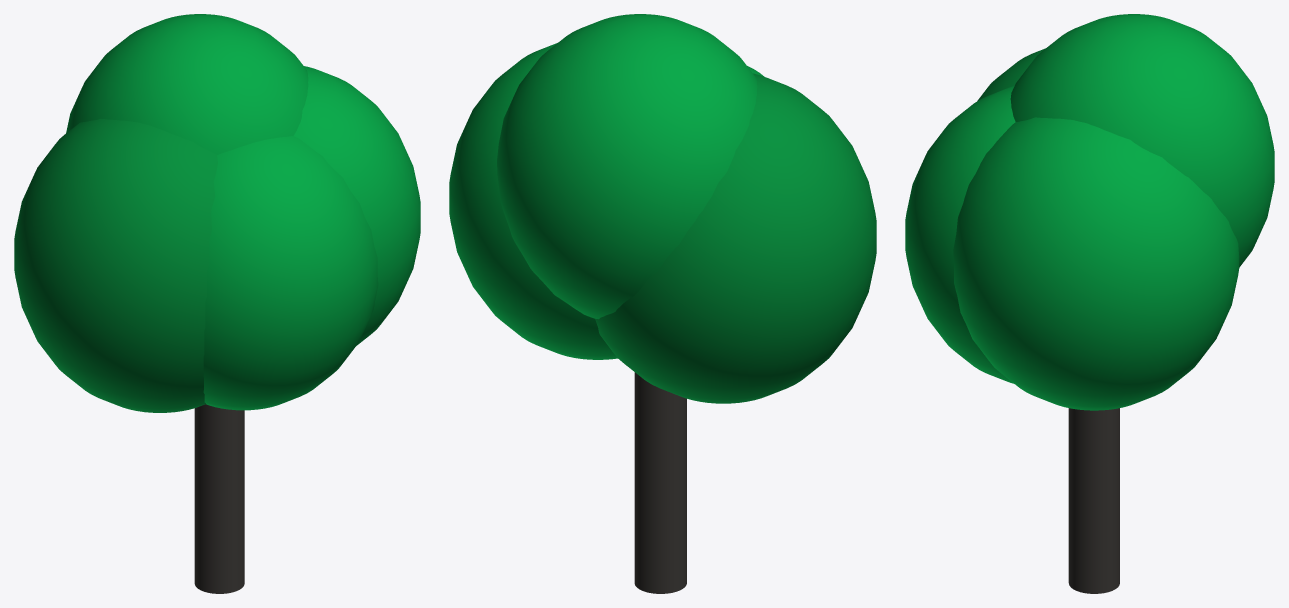
File: tree_broadleaf.glb
3 renders of one model, left to right at view 1: azimuth 30°, elevation 25°; view 2: azimuth 150°, elevation 25°; view 3: azimuth 270°, elevation 25°, orthographic. The views are drawn at different scales.
Visible parts, largest first — view 1: connected-canopy_leaf, connected-canopy_green, continuous-trunk_ink; view 2: connected-canopy_leaf, connected-canopy_green, continuous-trunk_ink; view 3: connected-canopy_leaf, continuous-trunk_ink, connected-canopy_green.
Part boxes in pixels (x1,y1,x2,y2): connected-canopy_leaf: (66,14,420,410); connected-canopy_green: (14,119,217,412); continuous-trunk_ink: (194,404,244,593); connected-canopy_leaf: (449,14,763,359); connected-canopy_green: (595,73,876,403); continuous-trunk_ink: (634,372,686,593); connected-canopy_leaf: (905,14,1274,410); continuous-trunk_ink: (1068,408,1119,593); connected-canopy_green: (977,48,1045,100).
Bounding box in the file's own units: 4.93 × 6.96 × 4.18.
